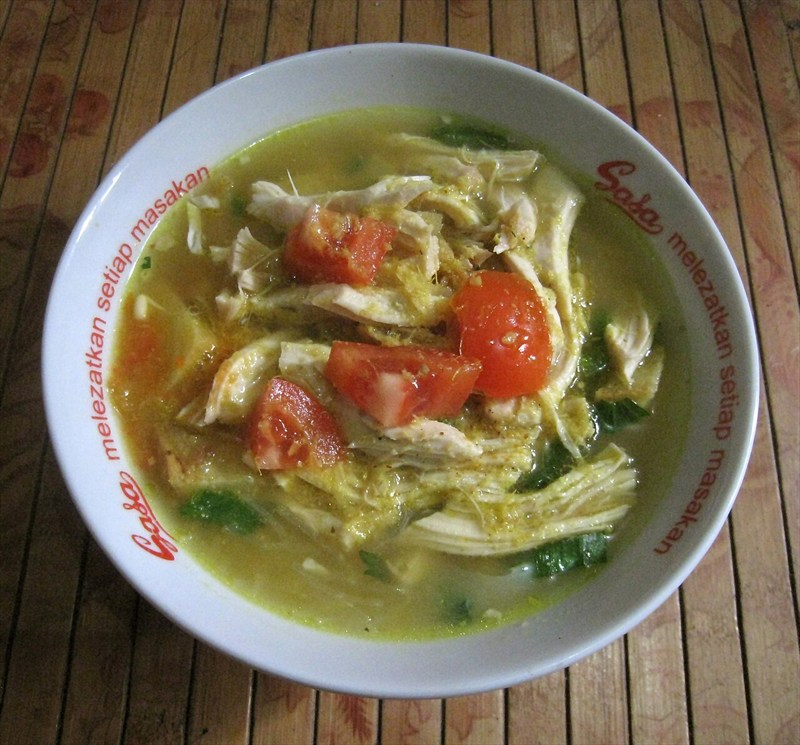Soto Ayam: (37, 154, 743, 659)
